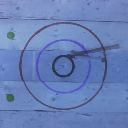Axe Tip: (70, 54, 85, 56)
